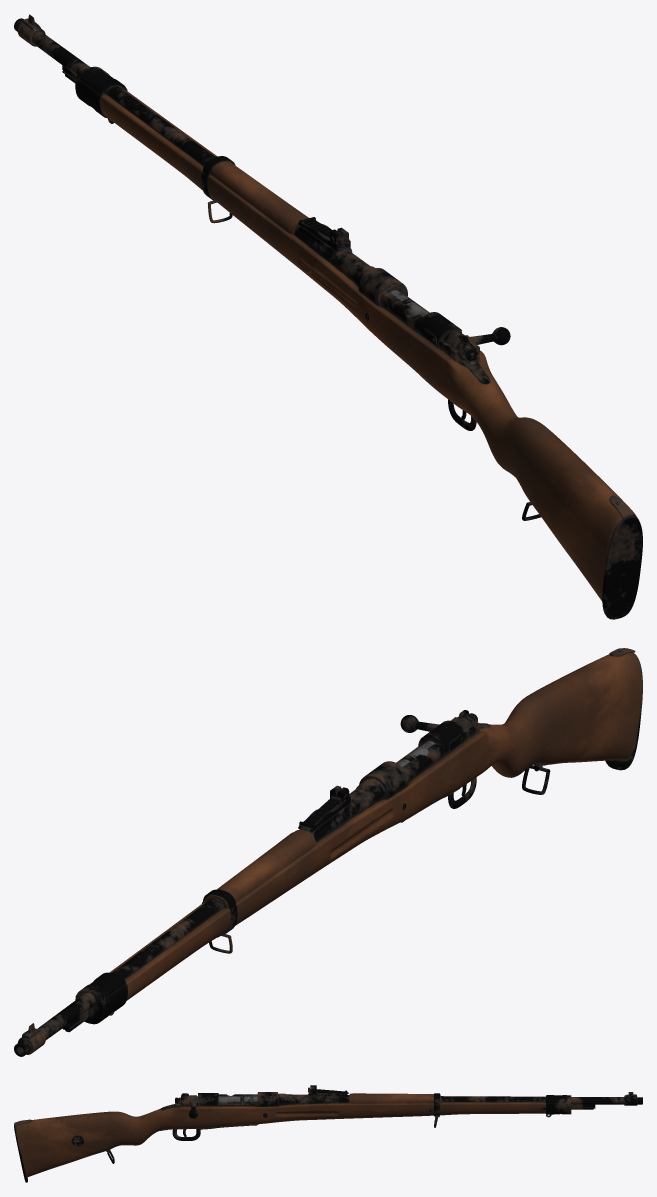
The model's file is mauser98.glb.
3 views of the same model, one above another, from view 1: azimuth 30°, elevation 25°; view 2: azimuth 150°, elevation 25°; view 3: azimuth 270°, elevation 25° (orthographic). The views are drawn at different scales.
Visible parts, largest first — view 1: Ahsap, Govde, Surgu; view 2: Ahsap, Govde, Surgu; view 3: Ahsap, Govde, Surgu, SurguKapak.
Boxes of the visible parts, box(x1,y1,x2,y2) form: Ahsap: box(100, 85, 639, 601); Govde: box(14, 14, 642, 619); Surgu: box(390, 289, 510, 345); Ahsap: box(110, 652, 641, 1000); Govde: box(14, 648, 642, 1056); Surgu: box(397, 715, 467, 766); Ahsap: box(15, 1093, 545, 1177); Govde: box(14, 1090, 642, 1182); Surgu: box(189, 1095, 257, 1118); SurguKapak: box(175, 1093, 257, 1105).
Size of the model in its own units: 0.0858 by 0.2071 by 1.25.
Materials: 2 (2 with a texture image).
